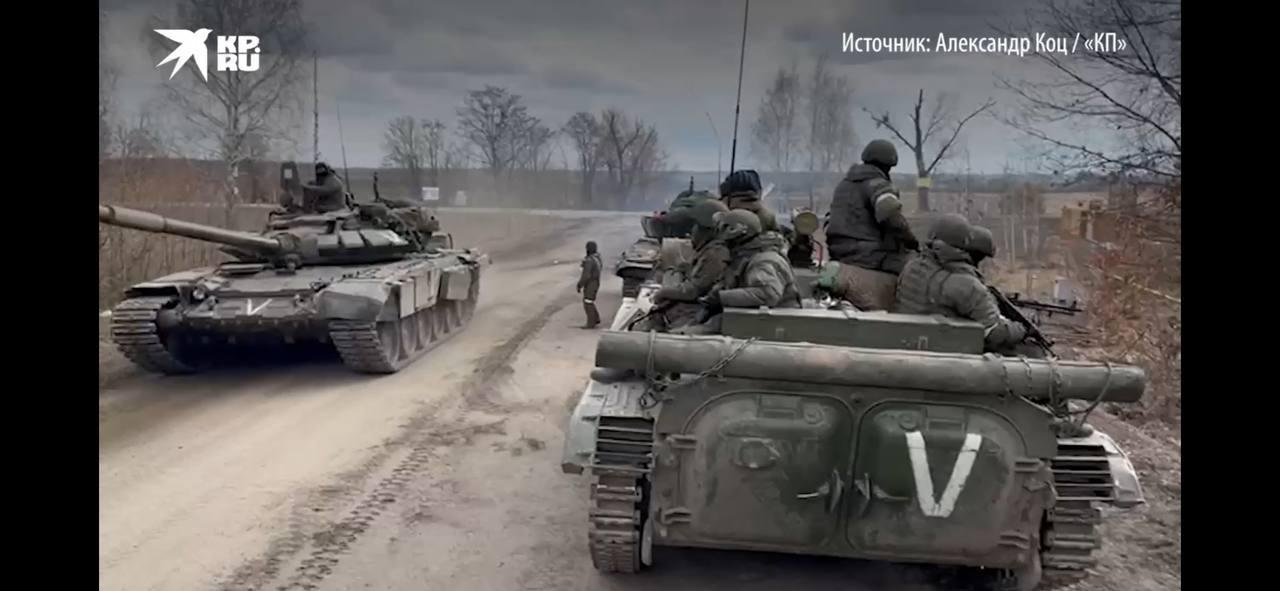person: (897, 202, 1026, 342), (816, 143, 918, 274), (666, 190, 757, 312), (716, 207, 800, 321), (578, 235, 608, 338), (302, 162, 348, 215)
tank: (562, 189, 1146, 588), (114, 176, 489, 384)
